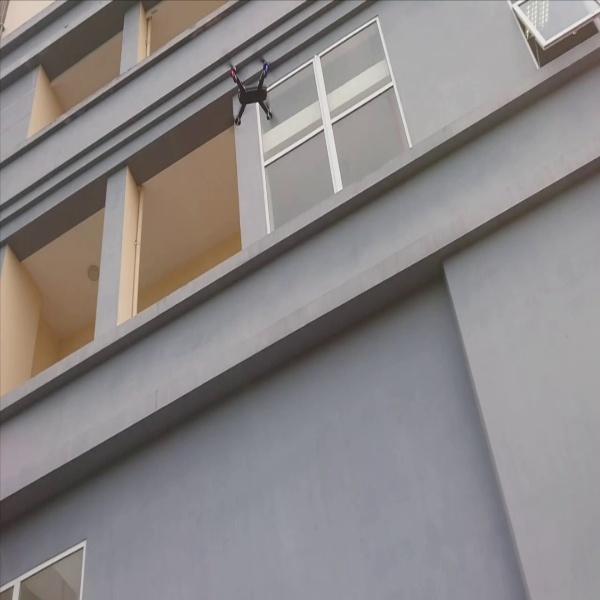drone: (226, 44, 283, 127)
